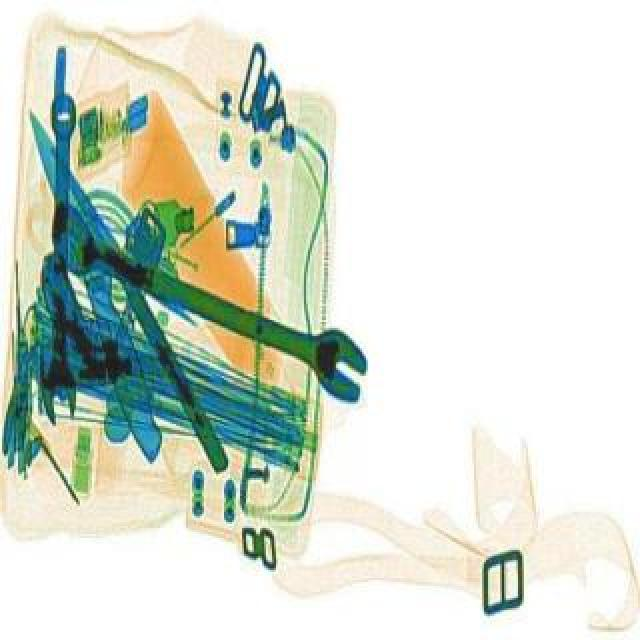gun: (36, 242, 170, 376)
knife: (46, 142, 234, 470), (22, 102, 170, 462)
scissors: (36, 210, 384, 404), (40, 92, 80, 420)
